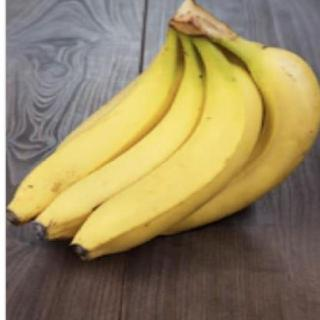banana: (68, 66, 264, 264), (134, 46, 319, 240), (33, 70, 223, 246), (4, 55, 185, 231)
